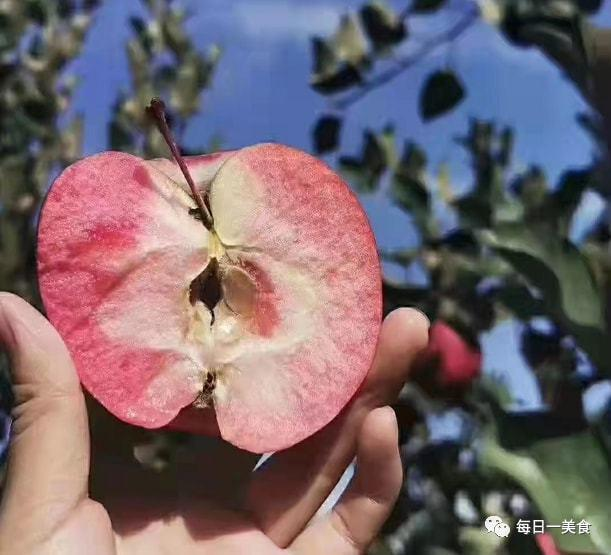apple: (31, 142, 385, 453)
